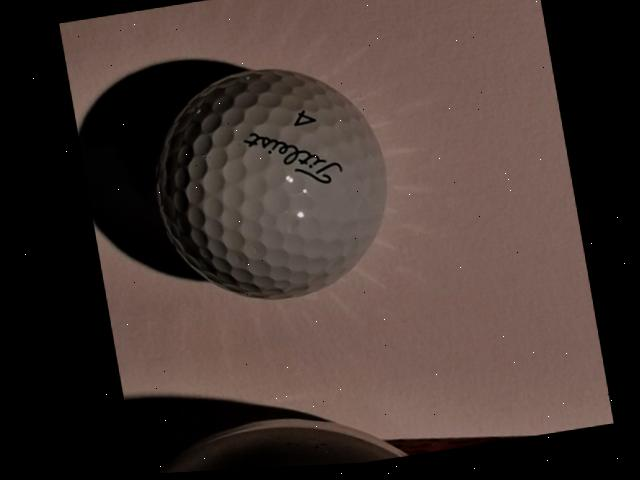Ball: (134, 55, 403, 320)
Titleist: (240, 123, 343, 199)
